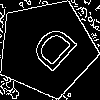D: (21, 23, 80, 81)
